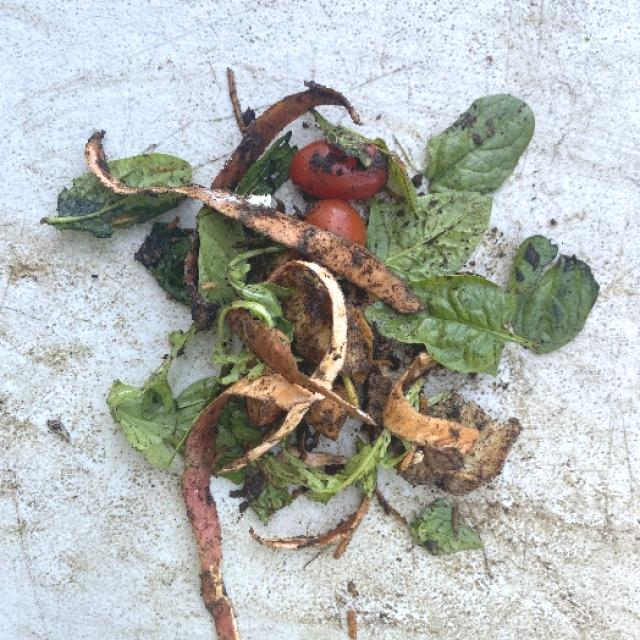wet: (343, 97, 597, 374), (114, 325, 195, 417), (309, 429, 390, 499)
